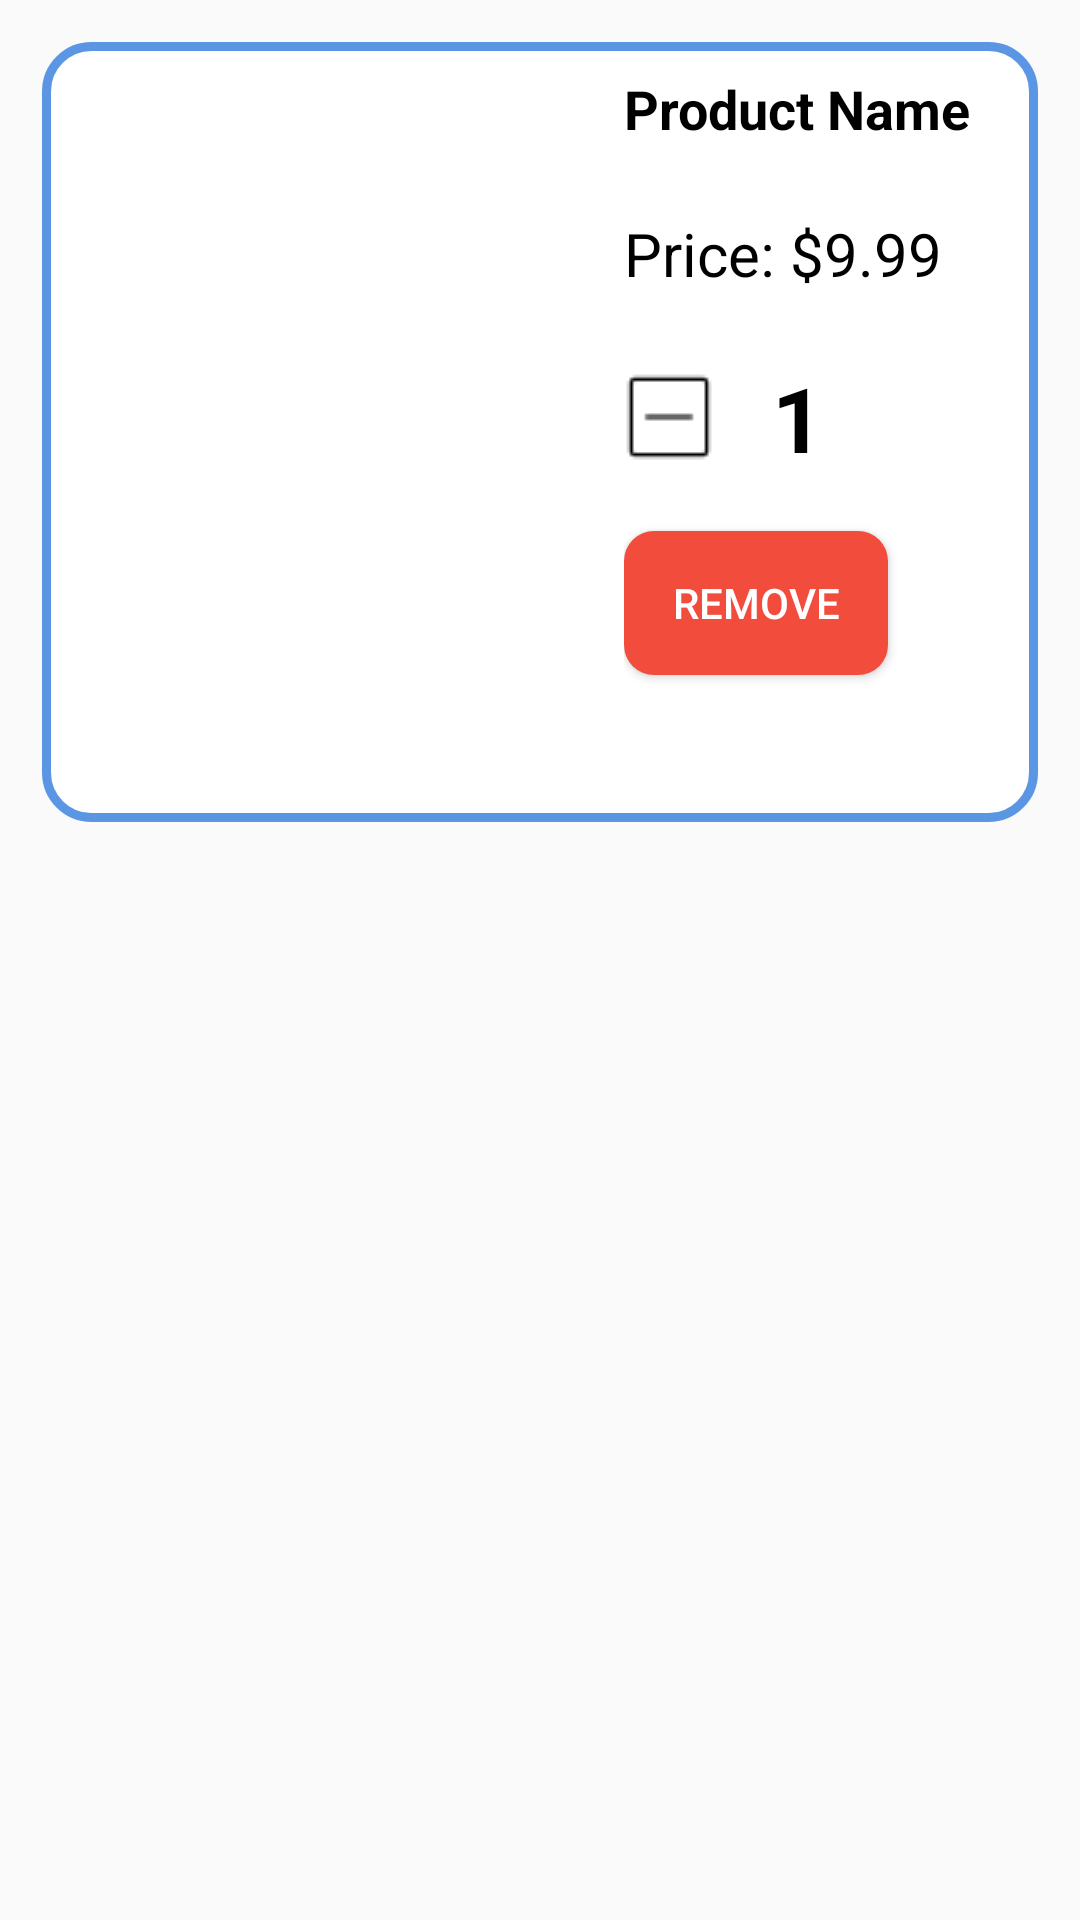

Icon bounding boxes for this 1080px×1920px phone screenshot, format (x1, y1, x2, y2):
minusicon: (627, 375, 711, 459)
